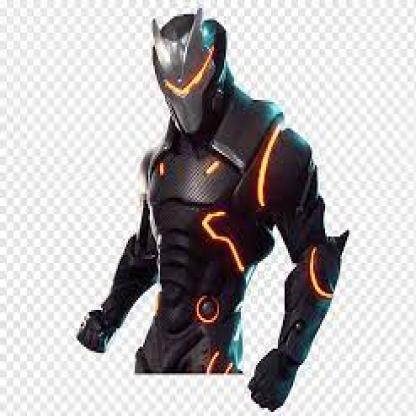person: (119, 22, 282, 408)
